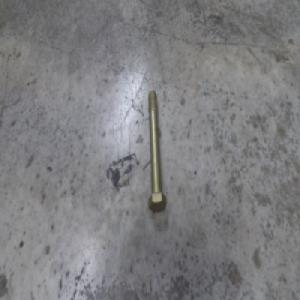Bolt: (145, 90, 166, 212)
